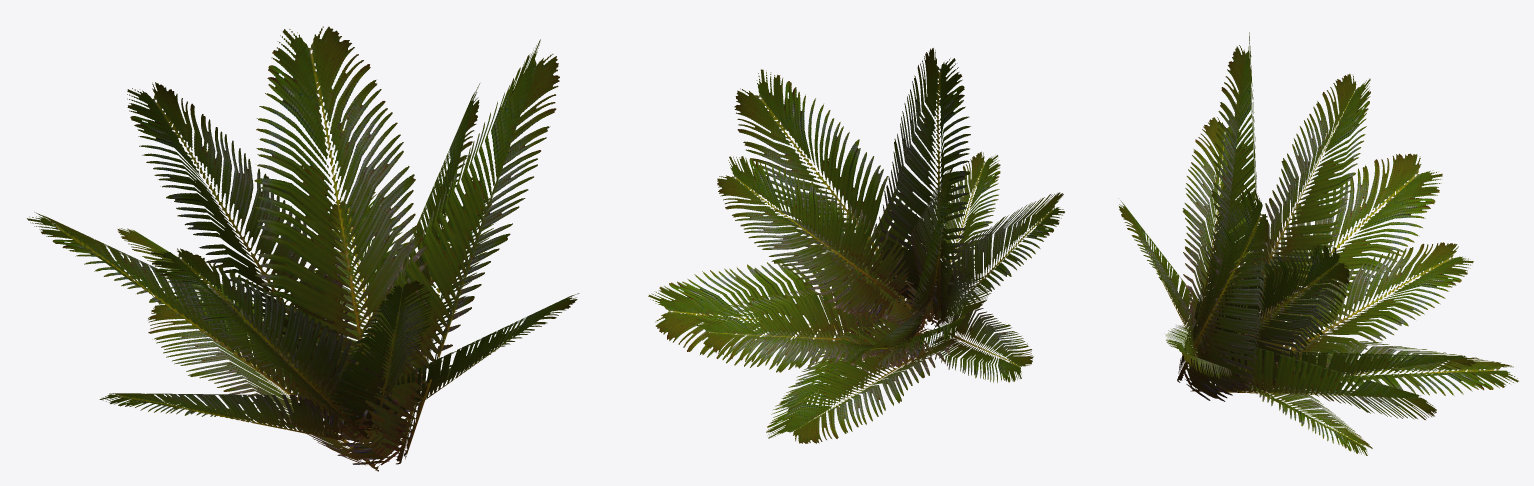
Rendered from shrub_palm.glb.
3 views of the same model, side by side, from view 1: azimuth 30°, elevation 25°; view 2: azimuth 150°, elevation 25°; view 3: azimuth 270°, elevation 25° (orthographic). The views are drawn at different scales.
Visible parts, largest first — view 1: shrub_palm; view 2: shrub_palm; view 3: shrub_palm.
Part boxes in pixels (left/top/right/bottom): shrub_palm: left=27, top=26, right=579, bottom=471; shrub_palm: left=648, top=48, right=1064, bottom=443; shrub_palm: left=1119, top=32, right=1518, bottom=455.
Size of the model in its own units: 4.67 by 4.23 by 4.07.
1 material, 1 textured.
